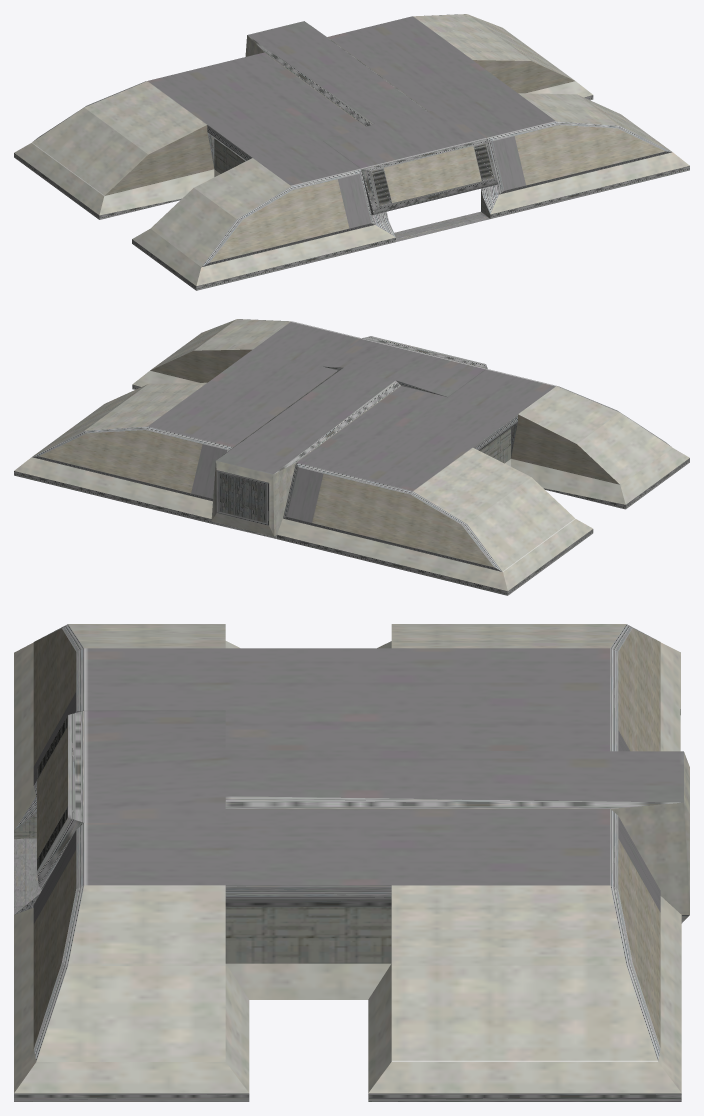
File: mun_all_cloning_s01_r0_mesh_l2.fbx
3 views of the same model, one above another, from view 1: azimuth 30°, elevation 25°; view 2: azimuth 150°, elevation 25°; view 3: azimuth 270°, elevation 25° (orthographic). The views are drawn at different scales.
Parts seen in each view (by area): view 1: mesh_node; view 2: mesh_node; view 3: mesh_node.
Part boxes in pixels (<box>): mesh_node: <box>14,14,689,290</box>; mesh_node: <box>14,319,689,595</box>; mesh_node: <box>14,624,689,1101</box>.
Bounding box in the file's own units: 62.92 × 8.14 × 40.77.
1 material, 1 textured.
